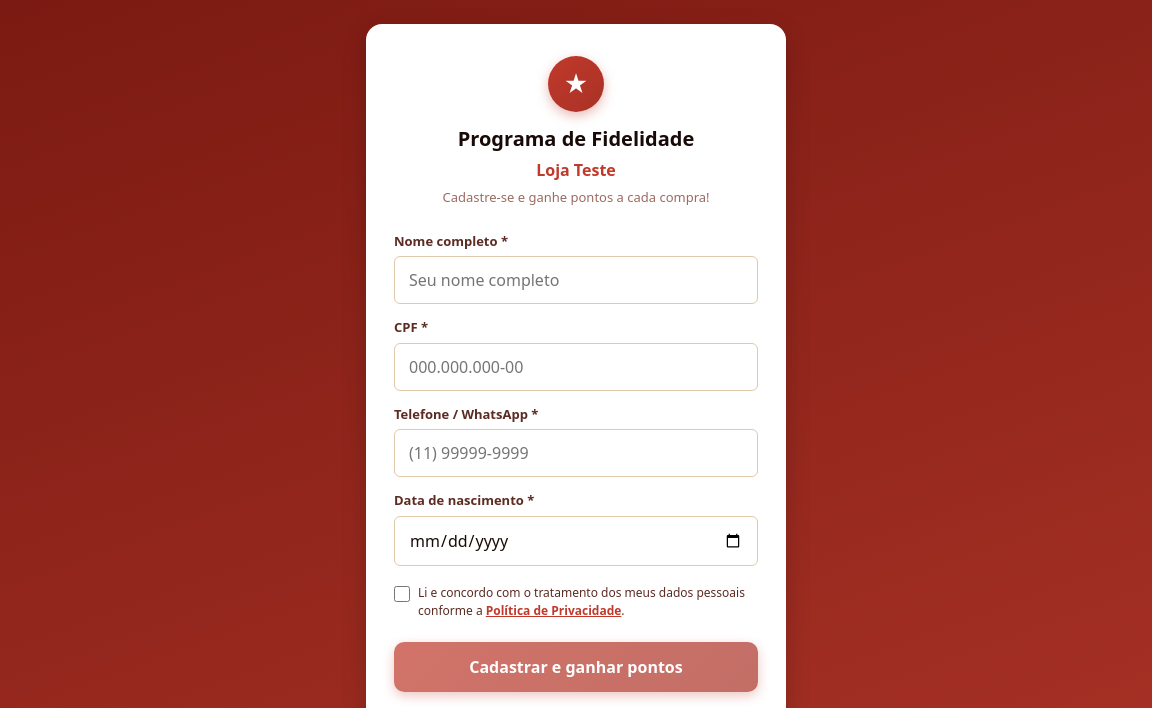
it: CustomerRegisterView › shows the generic error returned by the API
Type "João da Silva" into the field with placeholder "Seu nome completo" at (576, 280), box left=394, top=256, right=758, bottom=304
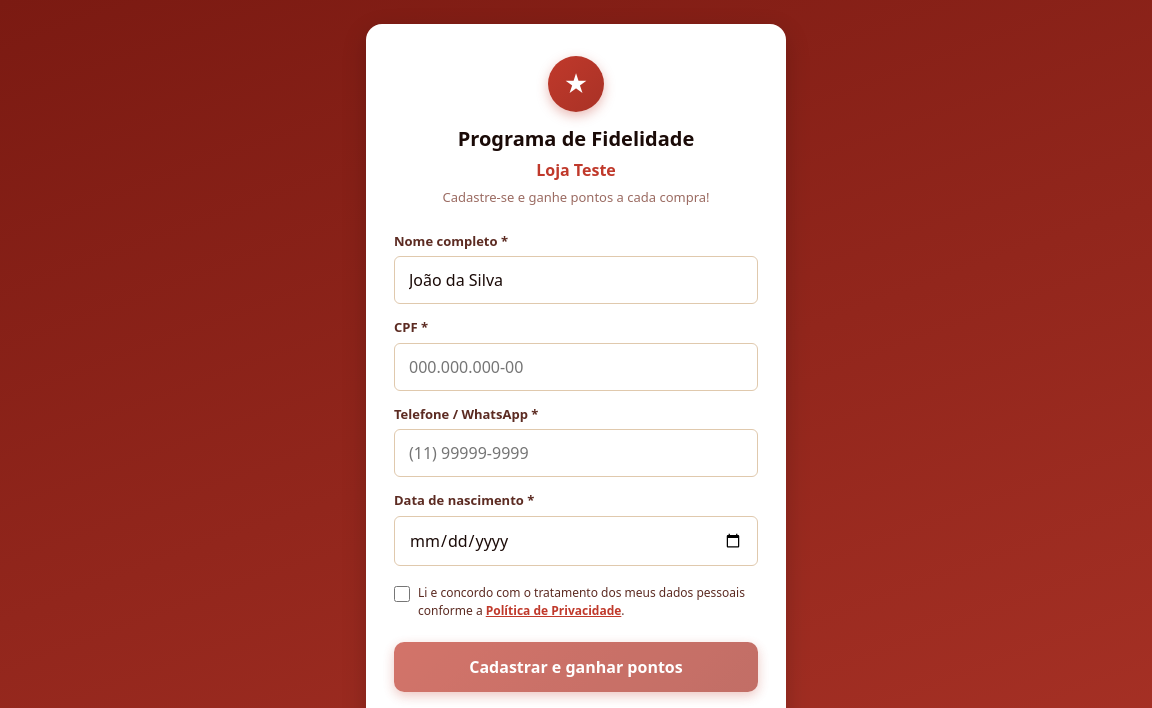
Type "52998224725" into the field with placeholder "000.000.000-00" at (576, 366), box left=394, top=342, right=758, bottom=390
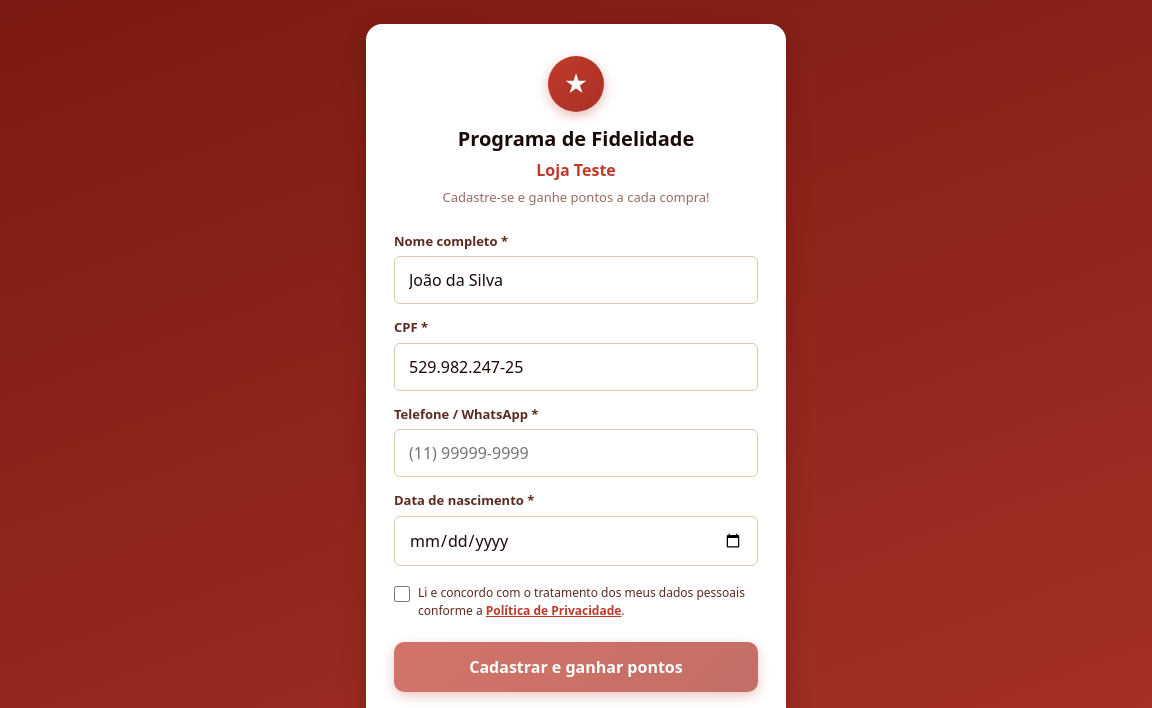
Type "11988887777" into the field with placeholder "(11) 99999-9999" at (576, 453), box left=394, top=429, right=758, bottom=477
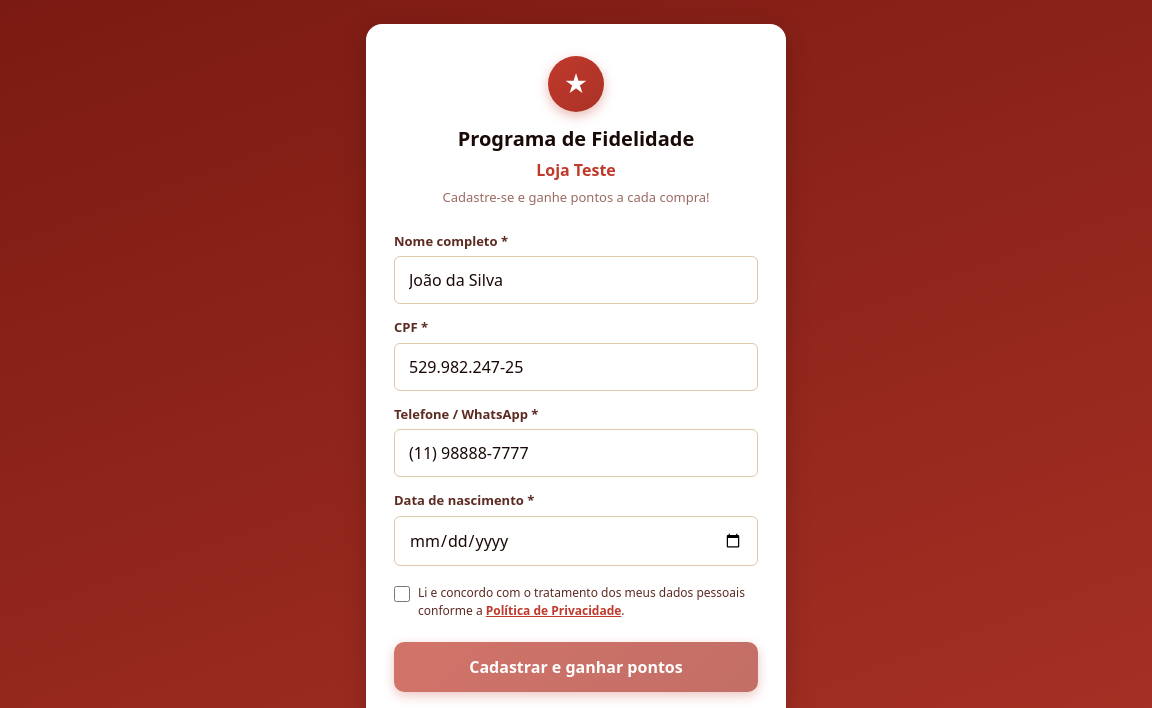
Type "1995-03-10" into the date field at (576, 540), box left=394, top=516, right=758, bottom=566
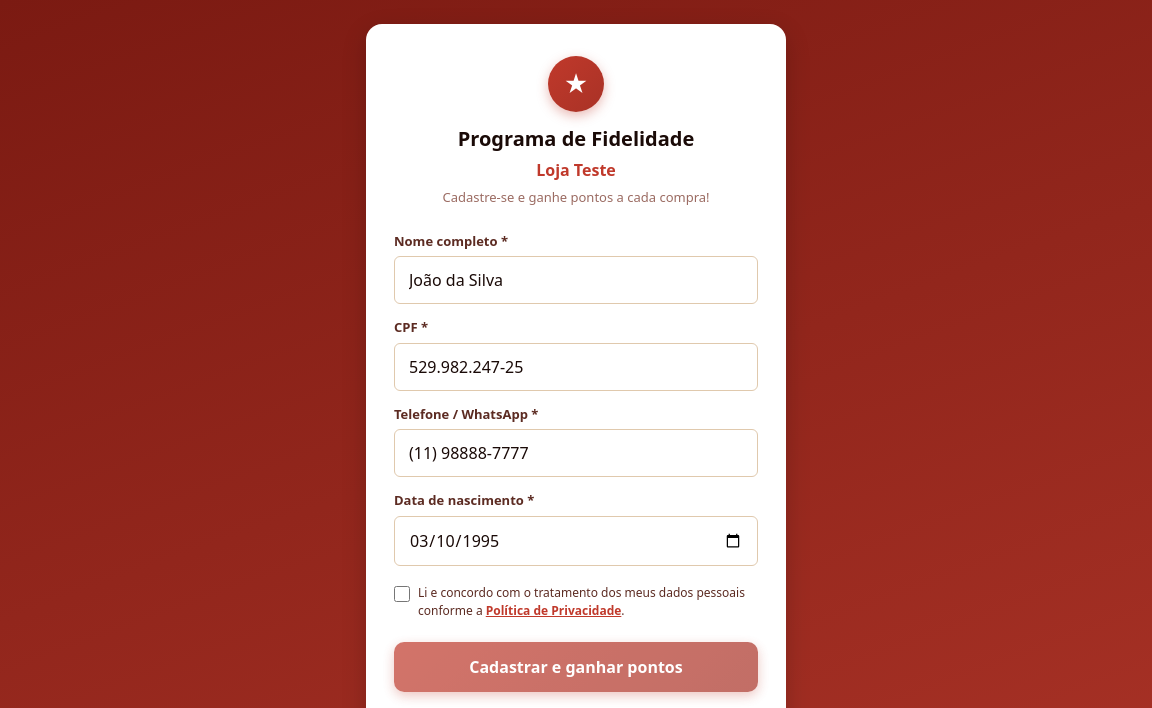
Click the checkbox at (402, 594), box left=394, top=586, right=410, bottom=602
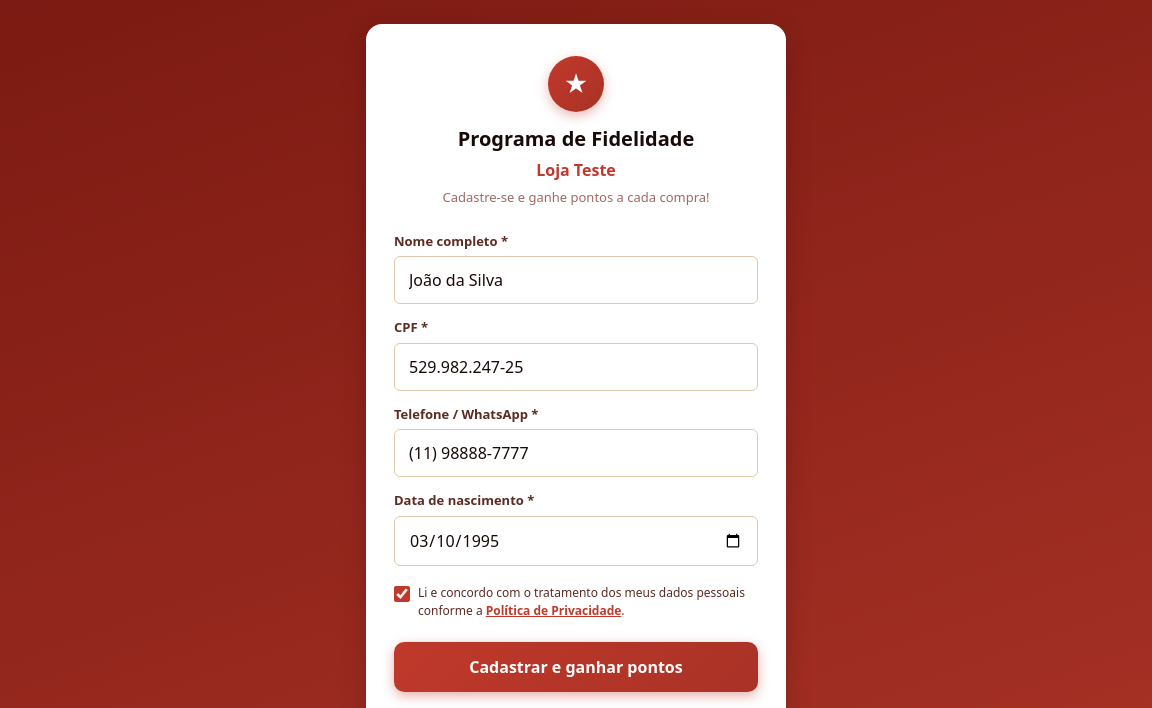
Submit the form, box left=394, top=232, right=758, bottom=692
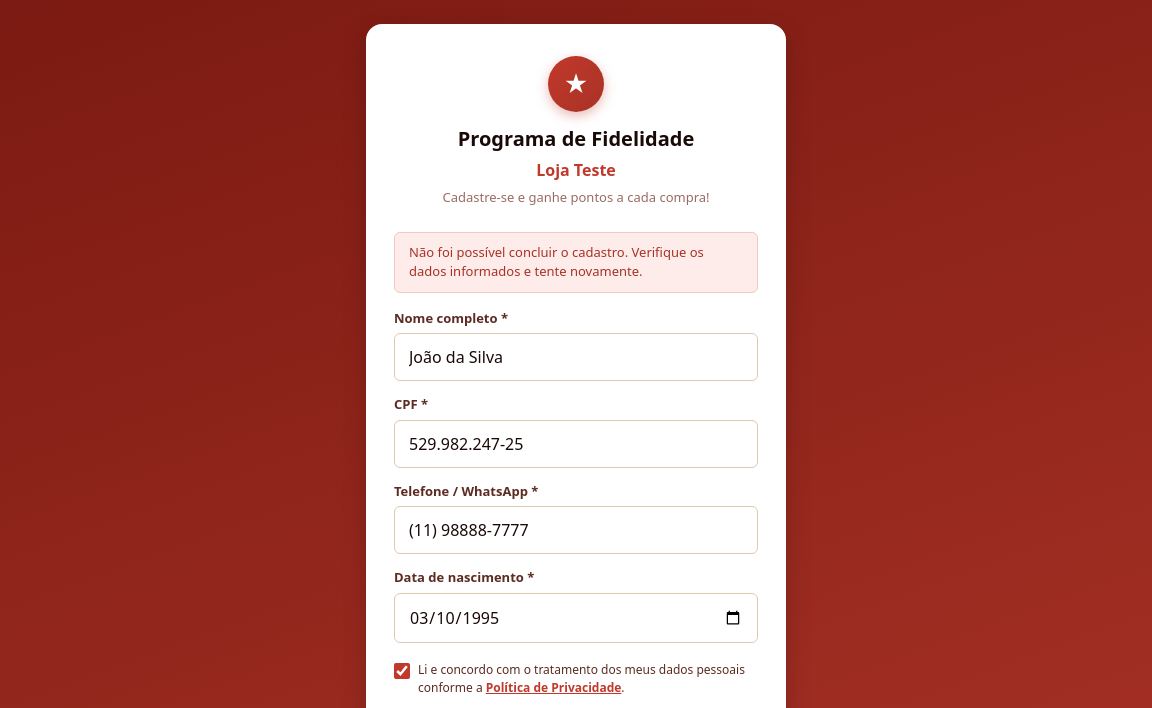
Result: the text "Não foi possível concluir o cadastro" is shown at left=409, top=242, right=704, bottom=280
